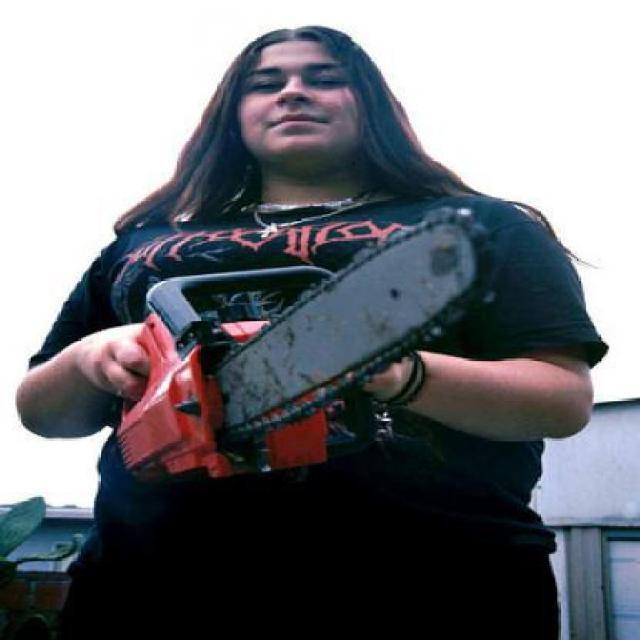Chainsaw: (102, 205, 490, 488)
